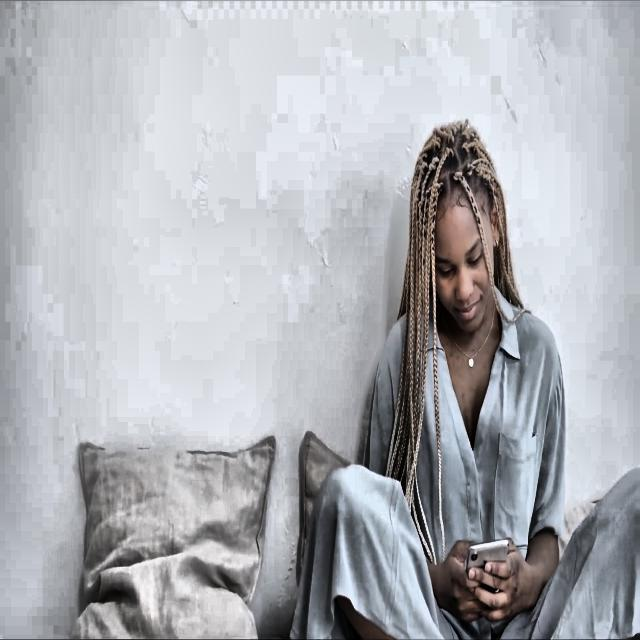Phone: (466, 534, 512, 584)
